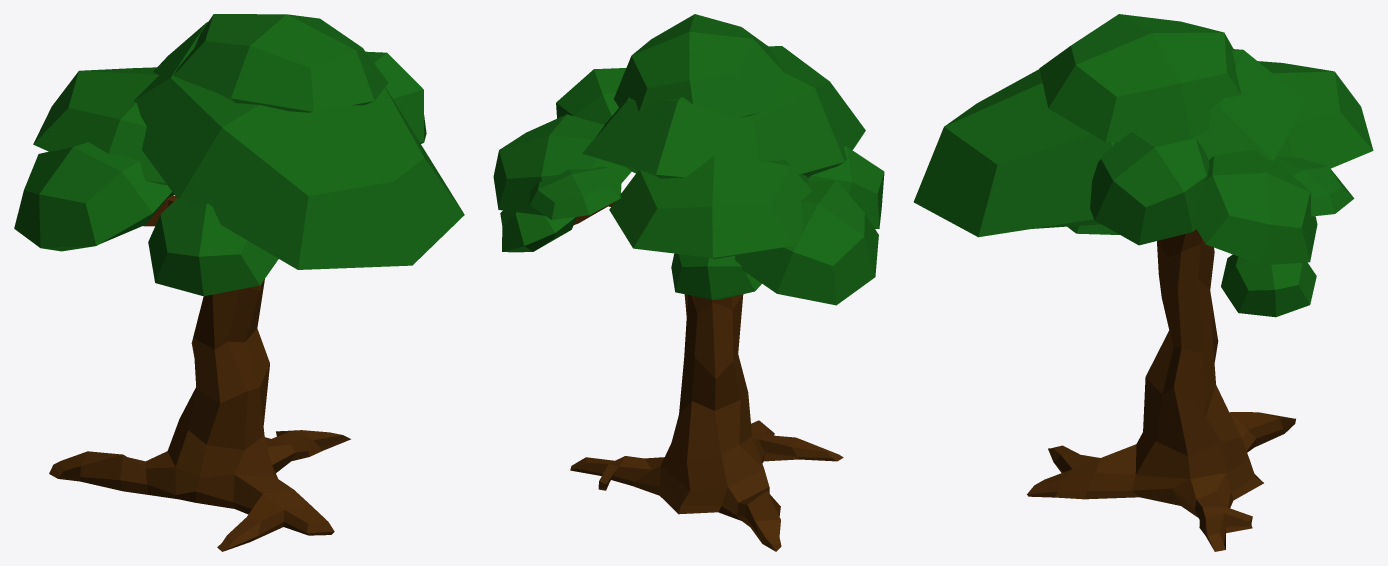
The model's file is OAK01.fbx.
The picture shows the model from 3 angles, left to right: view 1: azimuth 30°, elevation 25°; view 2: azimuth 150°, elevation 25°; view 3: azimuth 270°, elevation 25°; orthographic projection. The views are drawn at different scales.
Parts seen in each view (by area): view 1: pCube26, thicc, pCube31, pCube27, pCube28, pCube32, pCube34; view 2: thicc, pCube26, pCube32, pCube31, pCube27, pCube30, pCube36, pCube29, pCube28, pCube34, pCube33; view 3: thicc, pCube26, pCube31, pCube30, pCube34, pCube32, pCube33, pCube36.
Boxes of the visible parts, box(x1,y1,x2,y2) form: pCube26: box(133, 22, 464, 269); thicc: box(49, 195, 350, 551); pCube31: box(173, 14, 388, 112); pCube27: box(14, 142, 172, 251); pCube28: box(148, 198, 278, 296); pCube32: box(33, 67, 166, 184); pCube34: box(366, 51, 426, 143); thicc: box(570, 193, 843, 551); pCube26: box(582, 46, 865, 178); pCube32: box(609, 155, 811, 259); pCube31: box(614, 14, 786, 117); pCube27: box(734, 180, 878, 305); pCube30: box(493, 114, 631, 215); pCube36: box(529, 166, 621, 219); pCube29: box(671, 253, 761, 299); pCube28: box(807, 145, 884, 228); pCube34: box(556, 68, 626, 124); pCube33: box(500, 210, 576, 252); thicc: box(1027, 229, 1295, 551); pCube26: box(913, 49, 1306, 237); pCube31: box(1039, 14, 1241, 142); pCube30: box(1191, 150, 1317, 265); pCube34: box(1090, 131, 1209, 245); pCube32: box(1258, 61, 1373, 168); pCube33: box(1221, 254, 1316, 317); pCube36: box(1275, 156, 1354, 216).
Bounding box in the file's own units: 5275 × 6231 × 5507.
